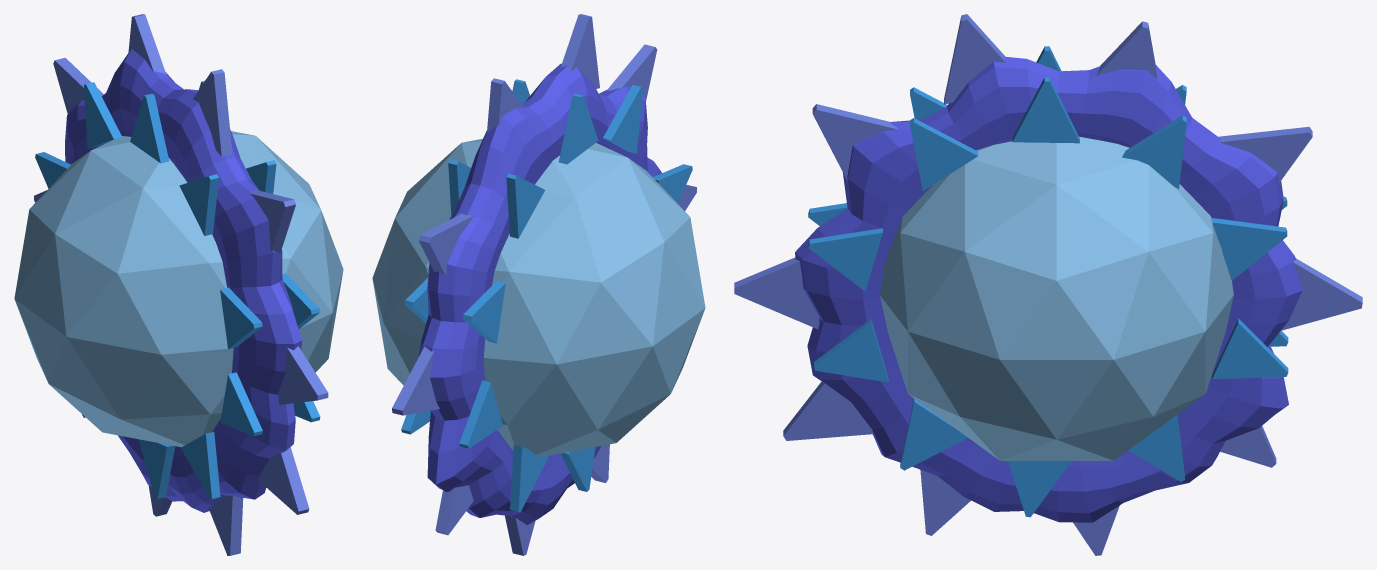
Rendered from EstrellaSol.fbx.
The picture shows the model from 3 angles, left to right: view 1: azimuth 30°, elevation 25°; view 2: azimuth 150°, elevation 25°; view 3: azimuth 270°, elevation 25°; orthographic projection. The views are drawn at different scales.
Visible parts, largest first — view 1: Torus.001; view 2: Torus.001; view 3: Torus.001.
Boxes of the visible parts, <box> form: Torus.001: <box>14,14,343,555</box>; Torus.001: <box>372,14,705,555</box>; Torus.001: <box>734,14,1362,555</box>.
Bounding box in the file's own units: 134 × 225 × 240.
